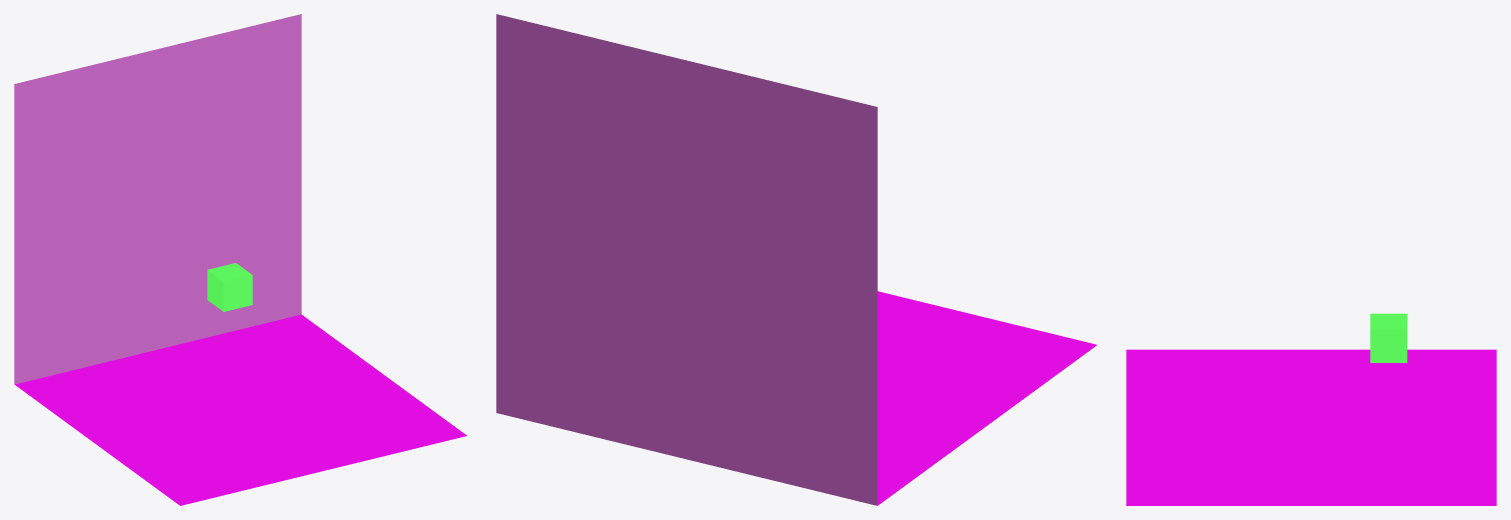
The model's file is roughness.glb.
3 renders of one model, left to right at view 1: azimuth 30°, elevation 25°; view 2: azimuth 150°, elevation 25°; view 3: azimuth 270°, elevation 25°, orthographic. The views are drawn at different scales.
Visible parts, largest first — view 1: Plane.001, Plane, Cube; view 2: Plane.001, Plane; view 3: Plane, Cube.
Boxes of the visible parts, x1=… form: Plane.001: x1=14, y1=14, x2=301, y2=384; Plane: x1=15, y1=314, x2=466, y2=505; Cube: x1=207, y1=263, x2=252, y2=311; Plane.001: x1=496, y1=14, x2=877, y2=505; Plane: x1=877, y1=291, x2=1096, y2=505; Plane: x1=1126, y1=349, x2=1496, y2=505; Cube: x1=1370, y1=313, x2=1407, y2=362.
Bounding box in the file's own units: 2 × 2 × 2.
